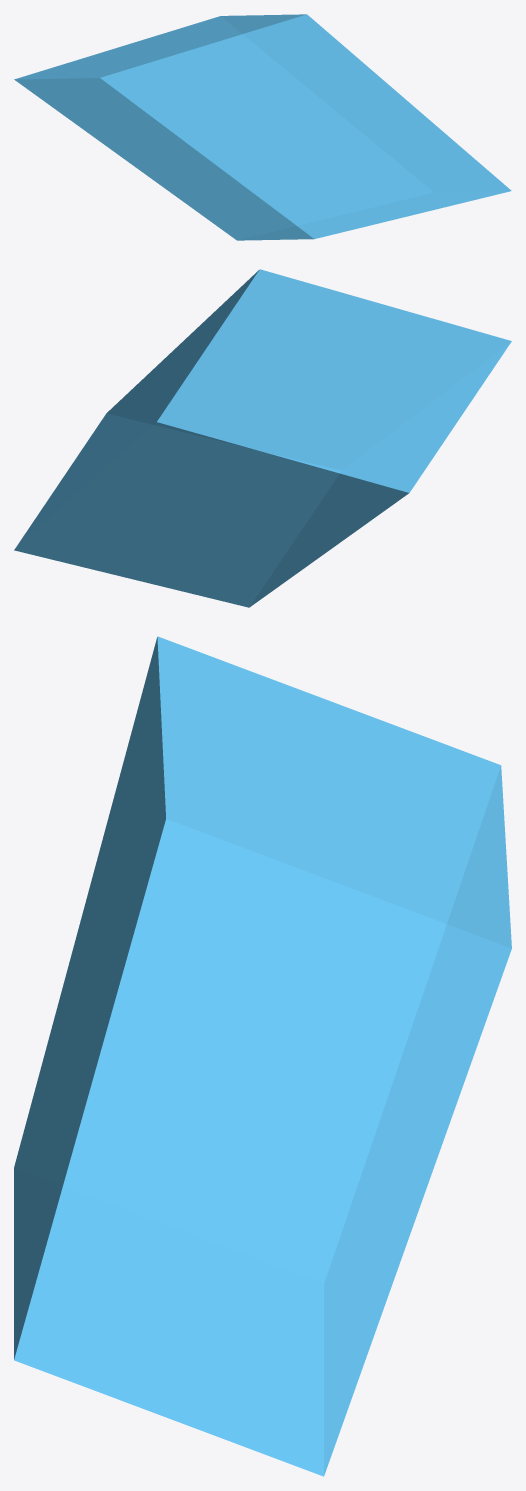
File: Event_421115418_HBrechit_16.fbx
3 renders of one model, top to bottom at view 1: azimuth 30°, elevation 25°; view 2: azimuth 150°, elevation 25°; view 3: azimuth 270°, elevation 25°, orthographic. The views are drawn at different scales.
Visible parts, largest first — view 1: Model; view 2: Model; view 3: Model.
Part boxes in pixels (x1=…): Model: x1=14, y1=14, x2=511, y2=240; Model: x1=14, y1=269, x2=511, y2=607; Model: x1=14, y1=636, x2=511, y2=1476.
Bounding box in the file's own units: 1.04 × 0.6542 × 0.5962.
